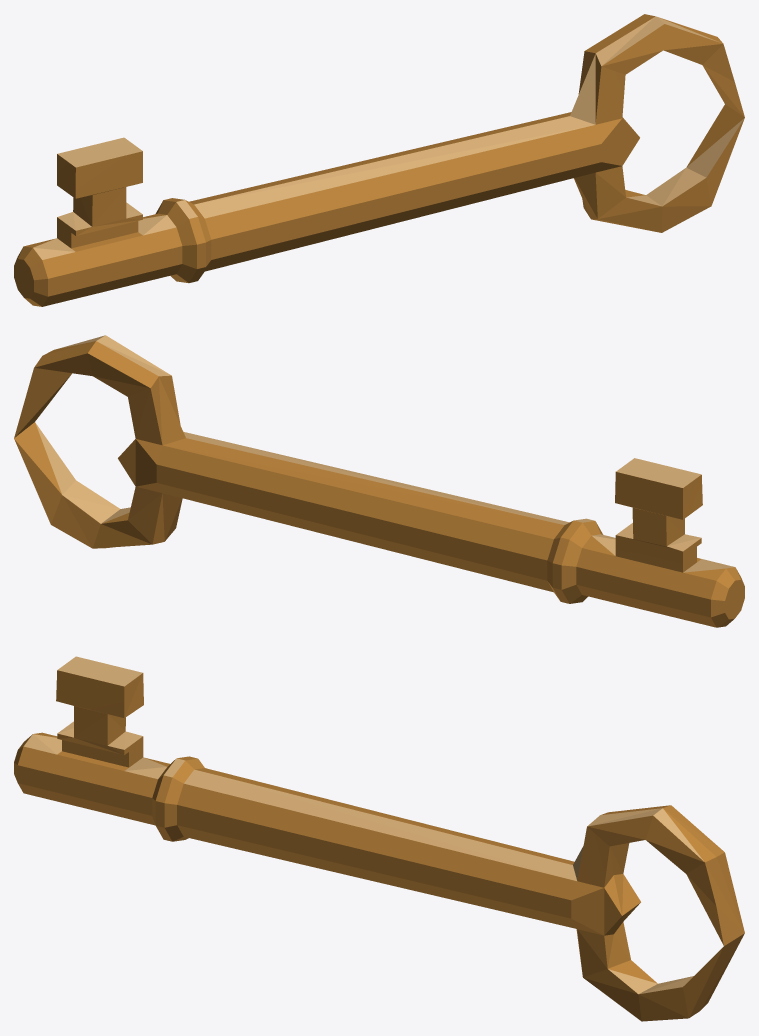
The model's file is key.glb.
The picture shows the model from 3 angles, top to bottom: view 1: azimuth 30°, elevation 25°; view 2: azimuth 150°, elevation 25°; view 3: azimuth 330°, elevation 25°; orthographic projection.
Parts seen in each view (by area): view 1: node_MeshObject-731313152-PolyPaper21; view 2: node_MeshObject-731313152-PolyPaper21; view 3: node_MeshObject-731313152-PolyPaper21.
Part boxes in pixels (x1,y1,x2,y2): node_MeshObject-731313152-PolyPaper21: (14, 14, 744, 306); node_MeshObject-731313152-PolyPaper21: (14, 335, 744, 627); node_MeshObject-731313152-PolyPaper21: (14, 656, 744, 1021).
Size of the model in its own units: 5 by 1.42 by 0.5077.
